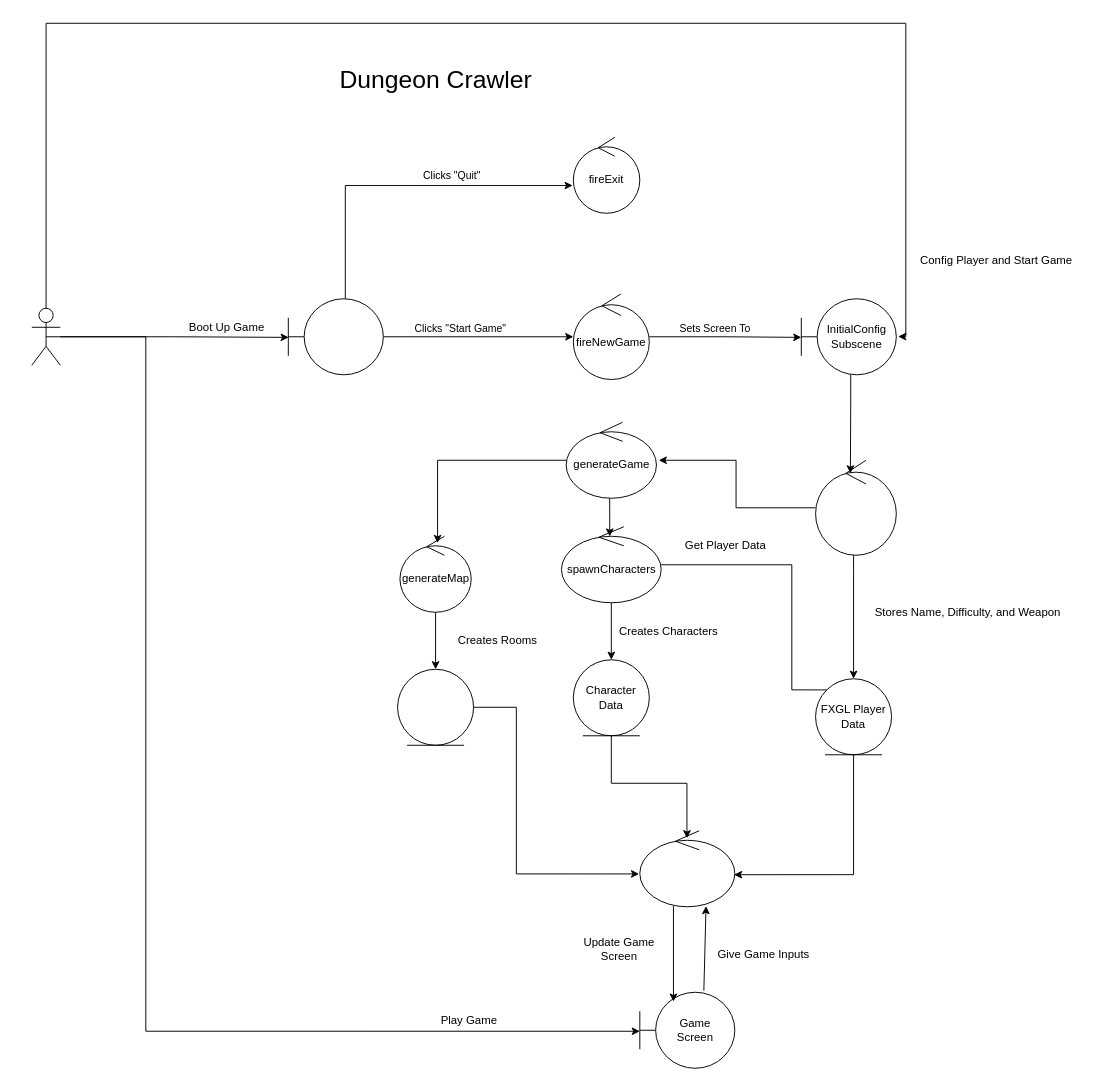
The diagram is 1098 pixels wide and 1085 high, and some of its shapes have lost their labels. Each missing label, with the centre of its shape:
Actor : User: the point at 45,336
Config Controller: the point at 855,507
gameController: the point at 687,868
Room Data: the point at 435,706
Welcome Screen: the point at 335,336
